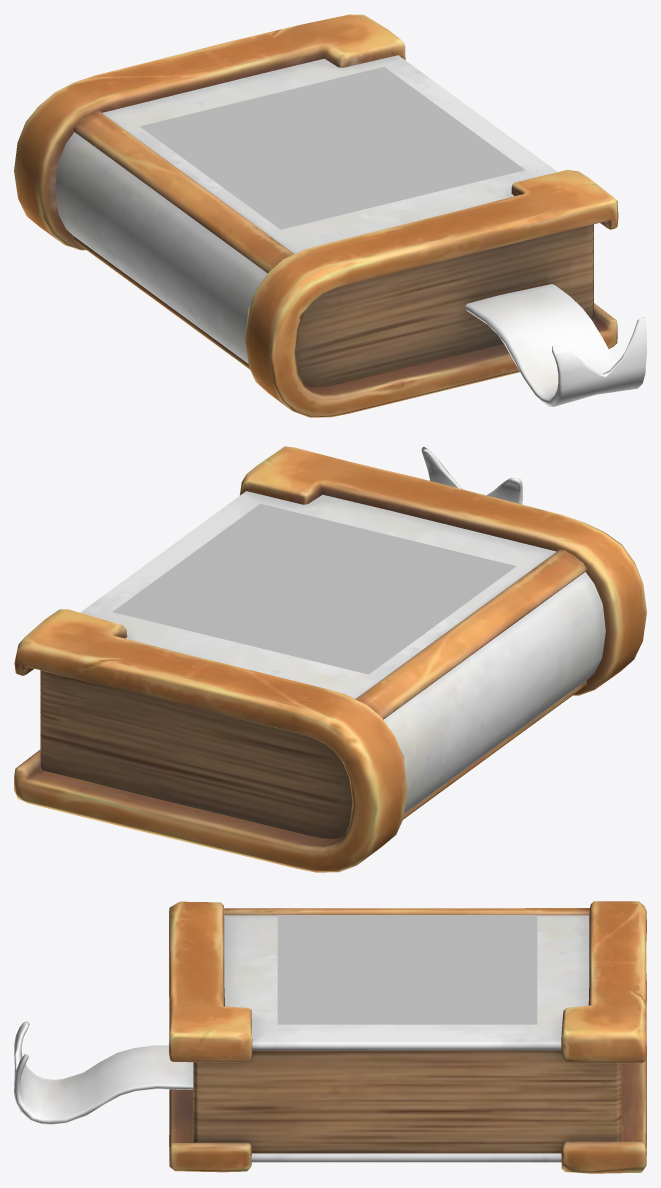
The picture shows the model from 3 angles, top to bottom: view 1: azimuth 30°, elevation 25°; view 2: azimuth 150°, elevation 25°; view 3: azimuth 270°, elevation 25°; orthographic projection. The views are drawn at different scales.
Visible parts, largest first — view 1: SM_Skill_Tome_Attack_LOD0; view 2: SM_Skill_Tome_Attack_LOD0; view 3: SM_Skill_Tome_Attack_LOD0.
Boxes of the visible parts, x1,y1,x2,y2 form: SM_Skill_Tome_Attack_LOD0: (14,14,646,417); SM_Skill_Tome_Attack_LOD0: (14,446,646,872); SM_Skill_Tome_Attack_LOD0: (14,901,646,1173).
Bounding box in the file's own units: 0.2949 × 0.1242 × 0.5018.
